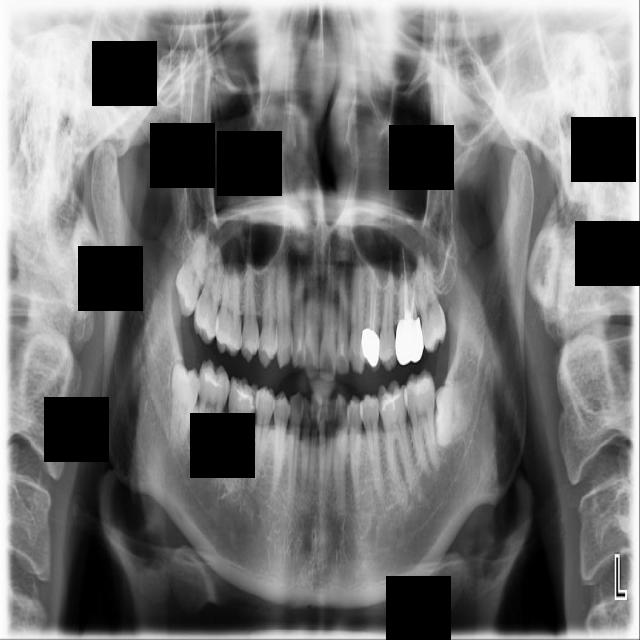3M ESPE Implant: (171, 219, 209, 319)
52: (192, 358, 236, 411), (372, 378, 414, 427), (401, 369, 439, 422), (390, 317, 428, 367), (225, 376, 260, 422), (360, 328, 381, 373), (251, 389, 259, 407)
73: (396, 242, 422, 323), (363, 259, 386, 330), (610, 566, 614, 576)
BioHorizons Implant: (411, 239, 450, 354)
Biomet 3i Implant: (434, 379, 475, 447)
Blue Sky Bio Implant: (403, 369, 439, 479)
Caries: (191, 226, 229, 345)
Implant: (187, 359, 233, 466)
Keystone Dental Implant: (168, 362, 201, 453)
